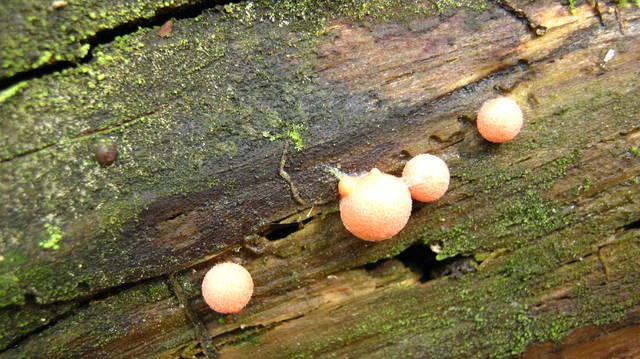poisonous_mushroom: (337, 167, 412, 242), (200, 260, 254, 315), (401, 152, 450, 202), (475, 94, 523, 143), (93, 139, 118, 166)
